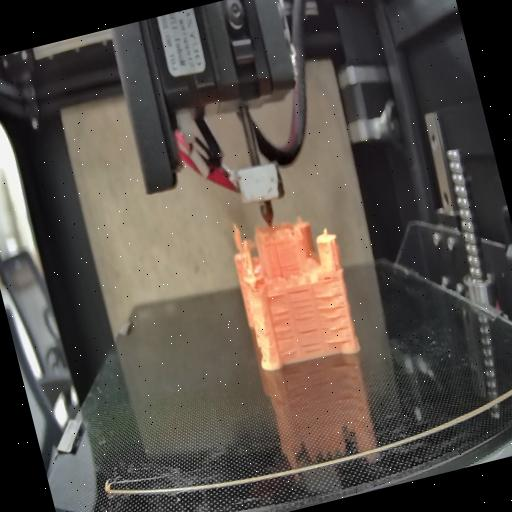cracks: (314, 290, 354, 346), (268, 307, 300, 359), (288, 286, 320, 323), (294, 322, 324, 355), (318, 270, 333, 284), (266, 292, 284, 302)
